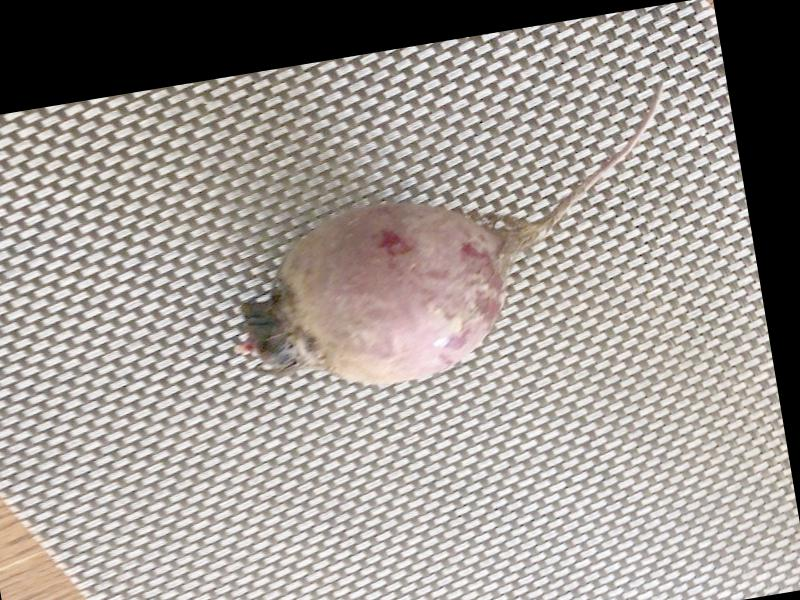Beet: (202, 81, 706, 406)
